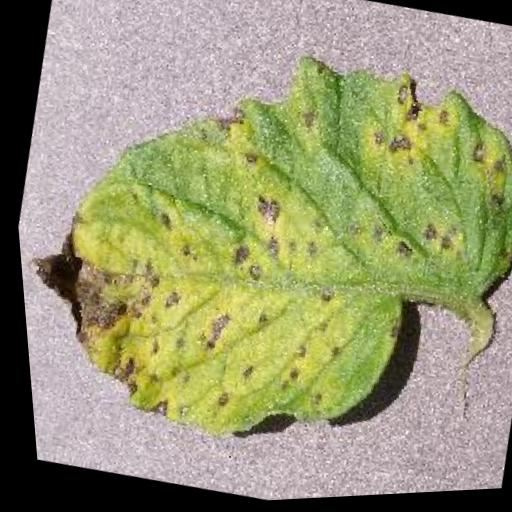Septoria: (1, 0, 512, 506)
